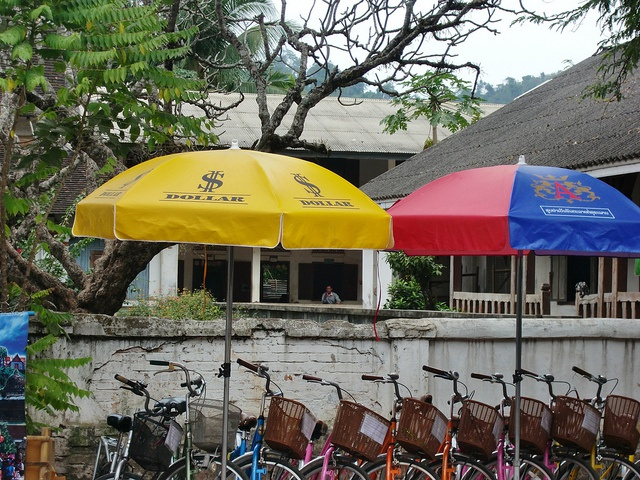non-vehicle: (226, 357, 316, 479), (145, 362, 242, 474), (93, 372, 184, 480), (297, 374, 389, 476), (421, 364, 505, 474), (472, 370, 555, 474), (363, 373, 448, 474), (520, 373, 597, 474), (572, 365, 640, 478)
